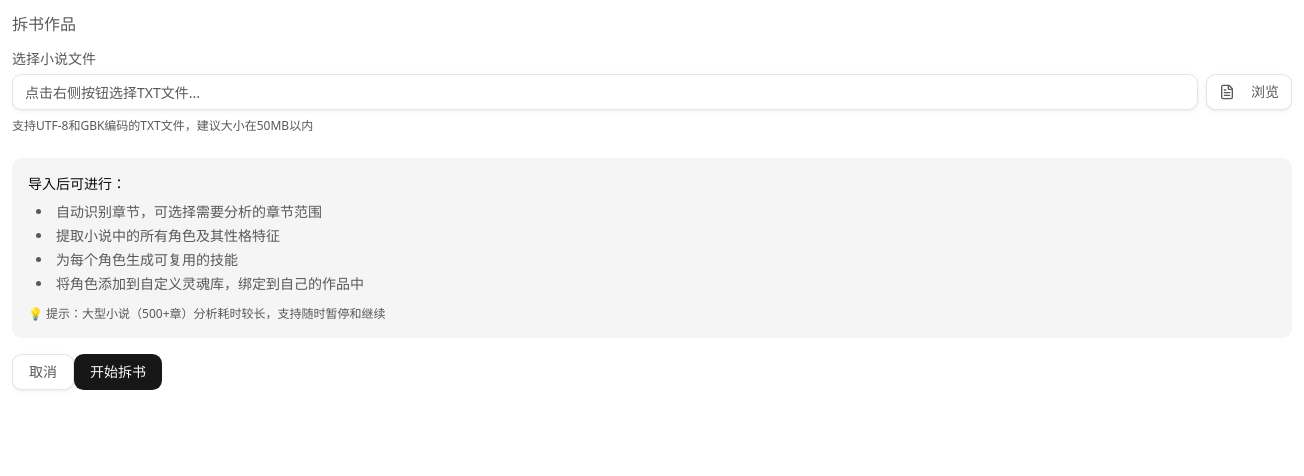
Test: BookAnalysisInputDialog › reports a selection failure with console.error
Click the button "浏览" at (1249, 92), box [1206,74,1292,110]
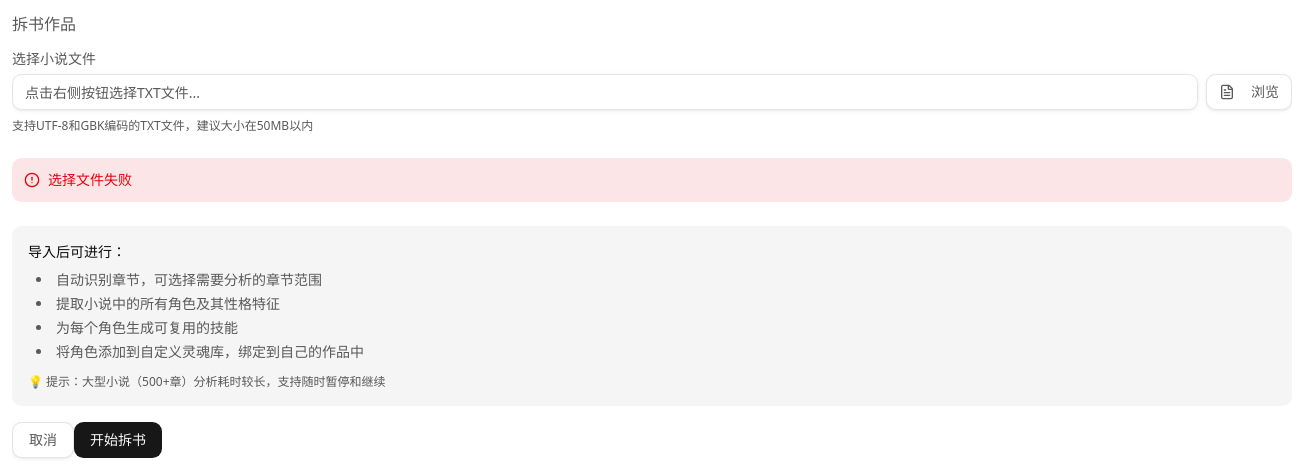
Expected: the text "选择文件失败" is shown, [48,170,132,190]
